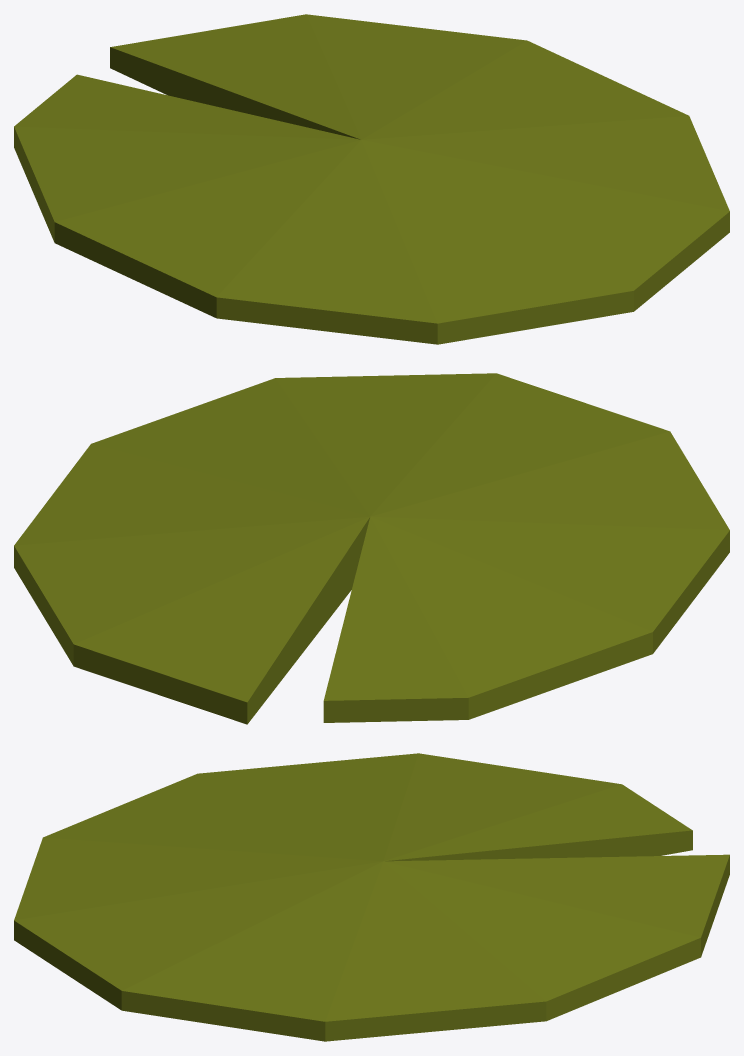
The model's file is Water Lily Single.fbx.
3 views of the same model, one above another, from view 1: azimuth 30°, elevation 25°; view 2: azimuth 150°, elevation 25°; view 3: azimuth 270°, elevation 25° (orthographic). The views are drawn at different scales.
Visible parts, largest first — view 1: Water Lily Single.001; view 2: Water Lily Single.001; view 3: Water Lily Single.001.
Part boxes in pixels (box(x1,y1,x2,y2)): Water Lily Single.001: box(14, 14, 729, 344); Water Lily Single.001: box(14, 373, 729, 724); Water Lily Single.001: box(14, 753, 729, 1041).
Size of the model in its own units: 0.3845 by 0.0294 by 0.4333.
